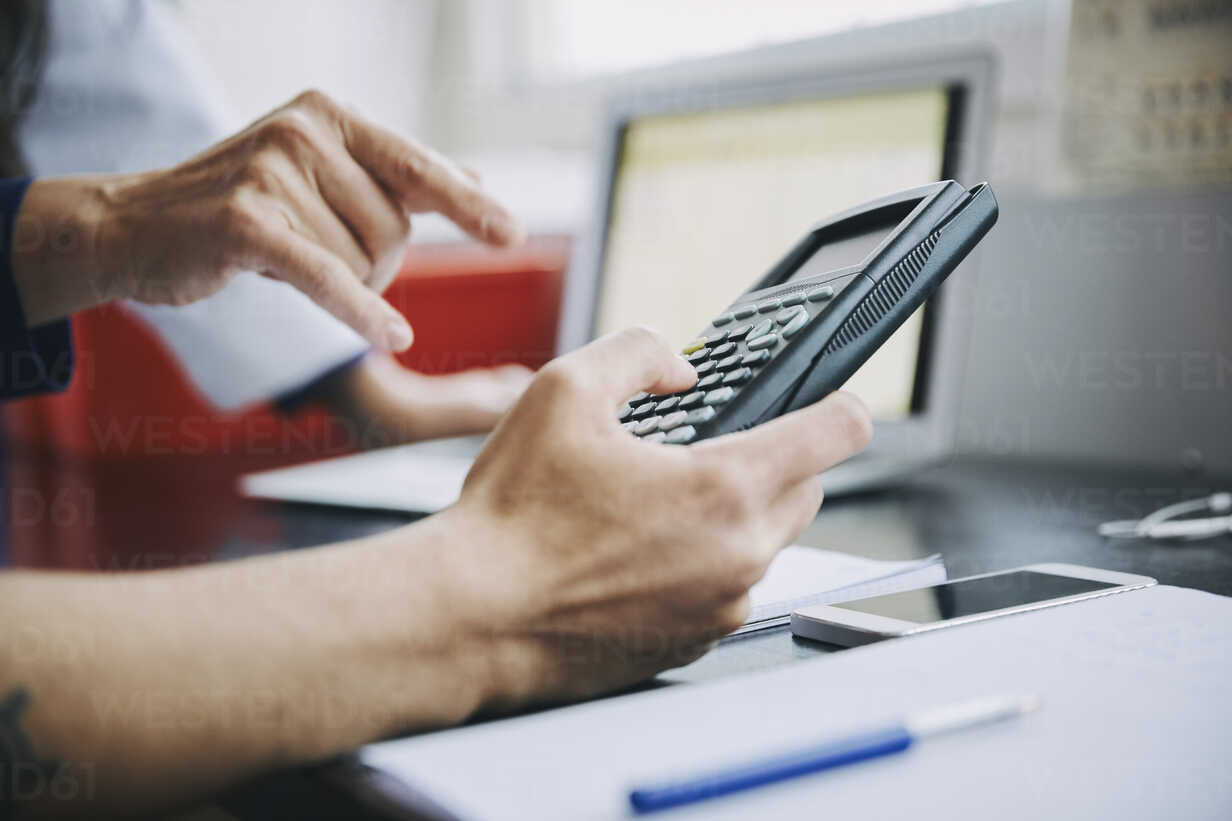Calculator: (592, 177, 1004, 542)
